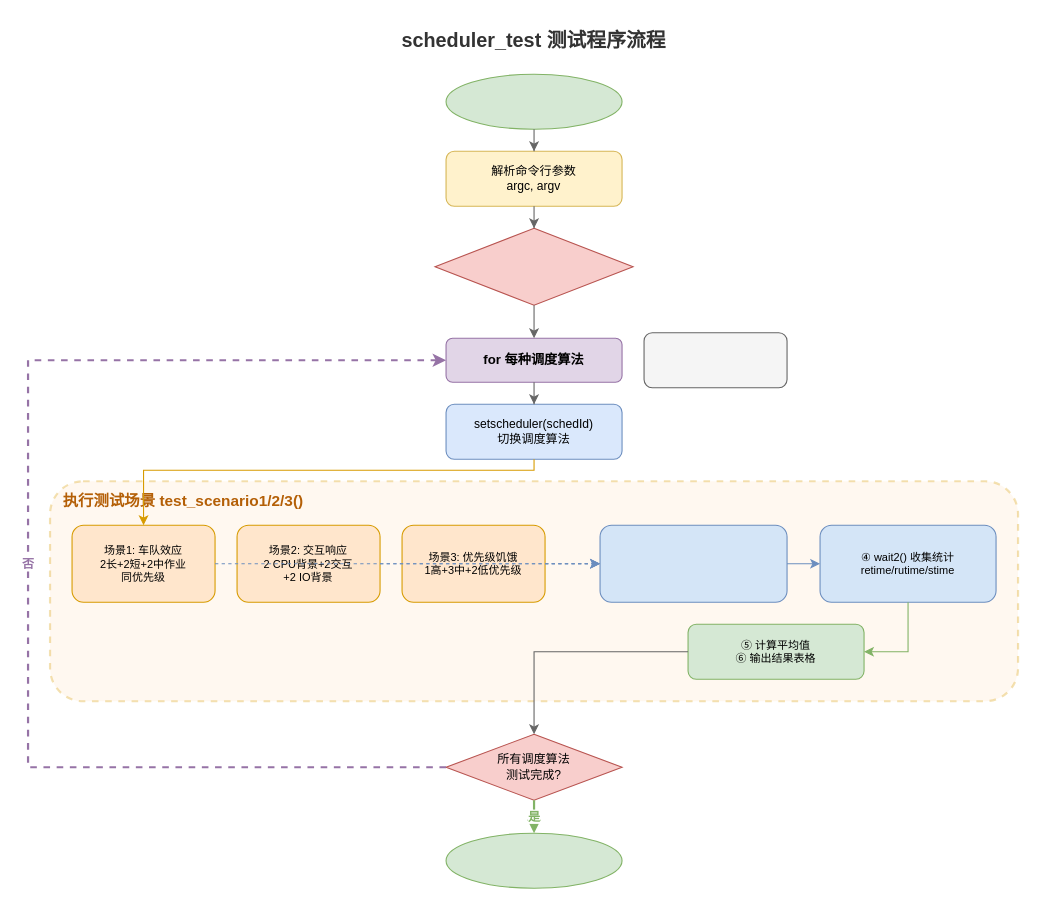
The diagram is 1037 pixels wide and 908 high, and some of its shapes have lost their labels. Here are the shapes that lost their labels. From the top down, the centre of each, then its label:
the point at 533,101: main() 启动
the point at 533,266: 选择测试场景 scenario = 0/1/2/3
the point at 715,360: DEFAULT → RR → PRIORITY → FCFS → SML
the point at 693,563: ① fork() 创建子进程 ② setpriority() 设置优先级 ③ 执行工作负载
the point at 533,860: 输出完成 退出程序
